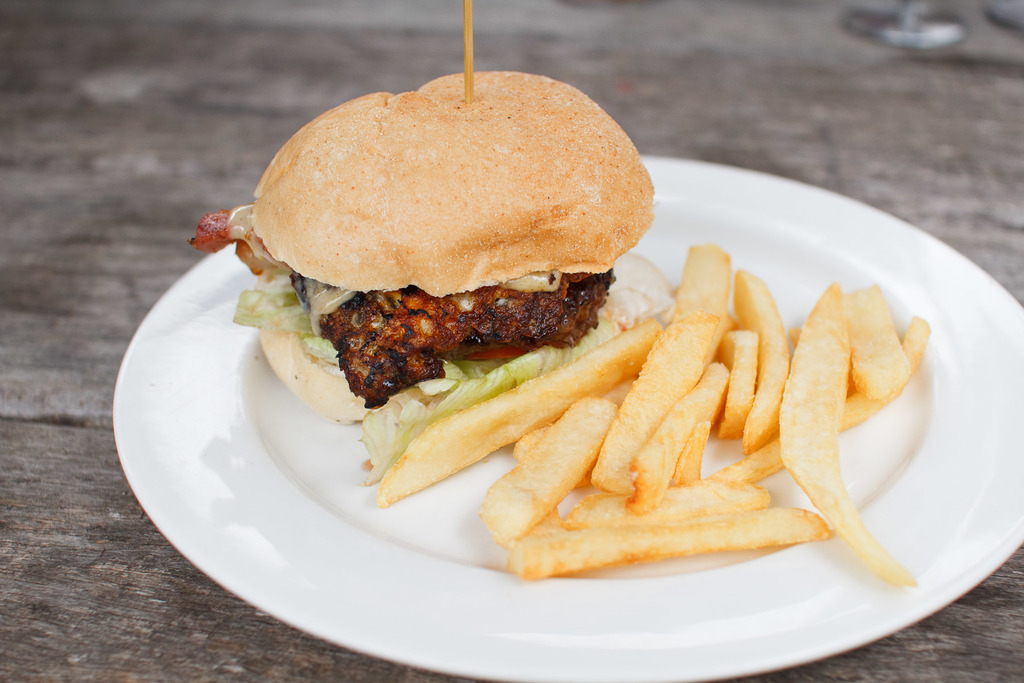French fries: (376, 243, 951, 587)
